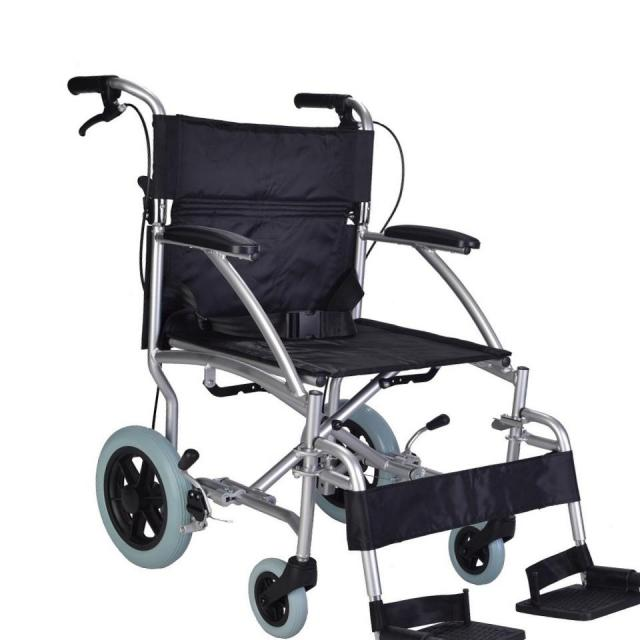wheelchair: (47, 48, 640, 640)
